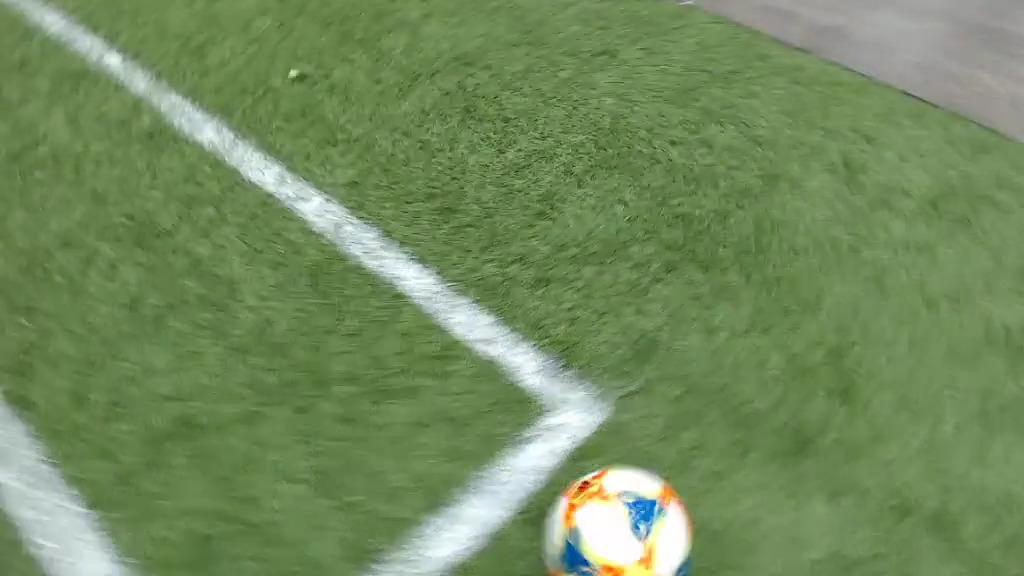ball: (543, 466, 693, 576)
